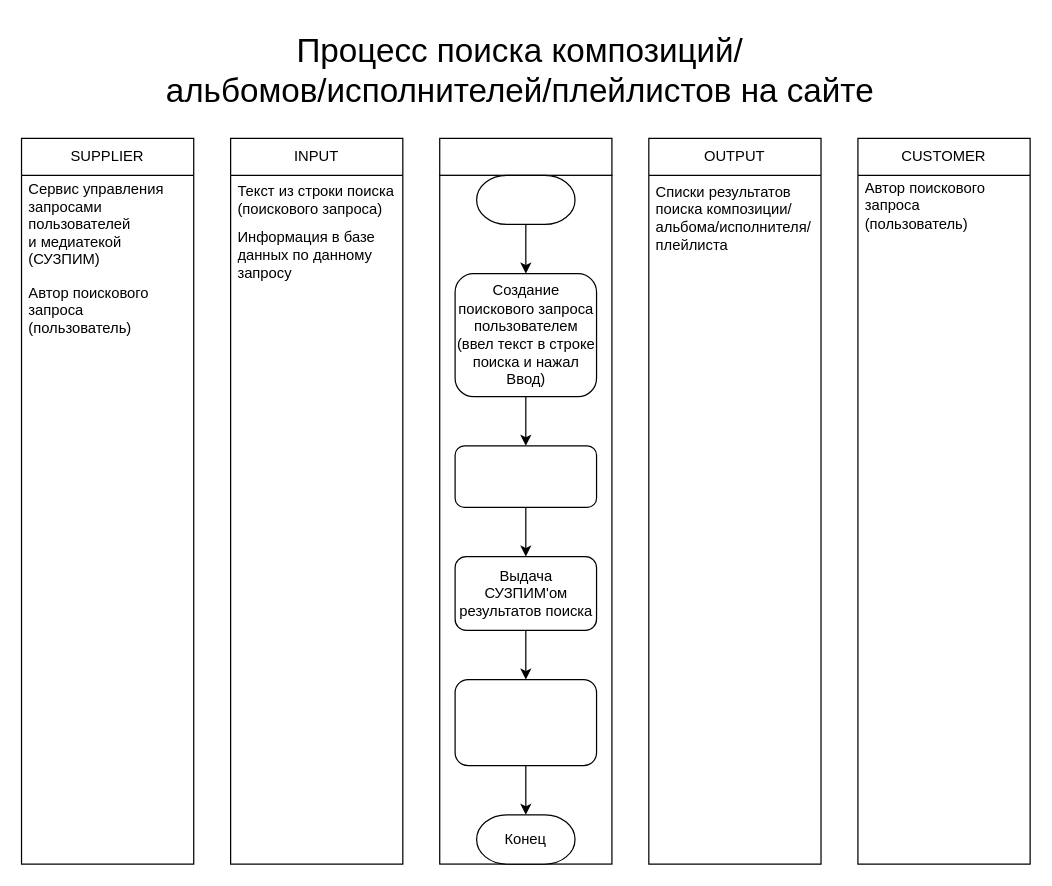
The diagram is 1052 pixels wide and 886 high, and some of its shapes have lost their labels. Here are the shapes that lost their labels. From the top down, the centre of each, then its label:
At [525,156]: "PROCESS".
At [525,199]: "Старт".
At [525,476]: "Обращение к СУЗПИМ'у по данному запросу".
At [525,722]: "Отображение результатов поиска у пользователя".
